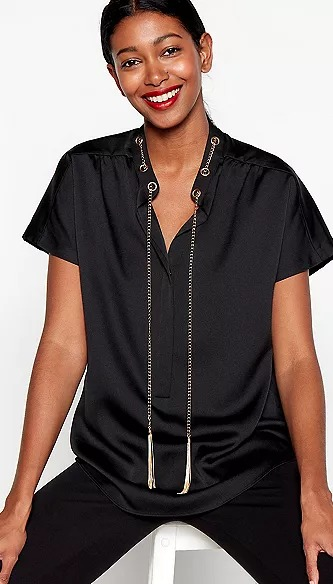C_short blouse: (28, 127, 333, 504)
